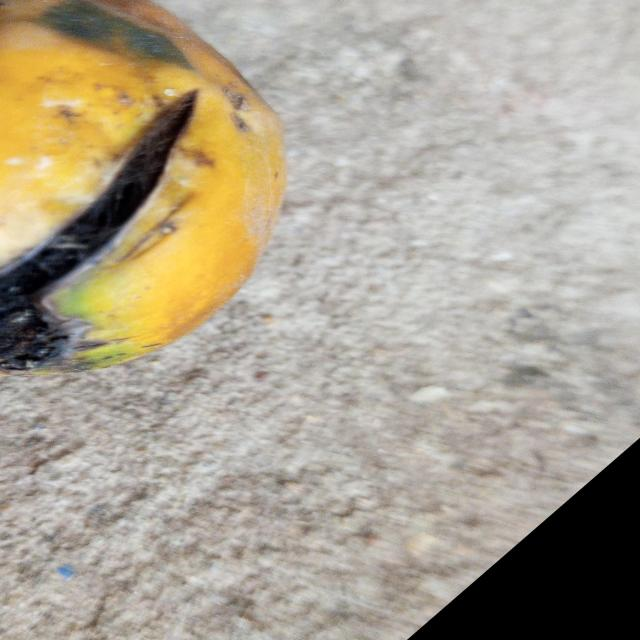damaged: (0, 0, 284, 374)
